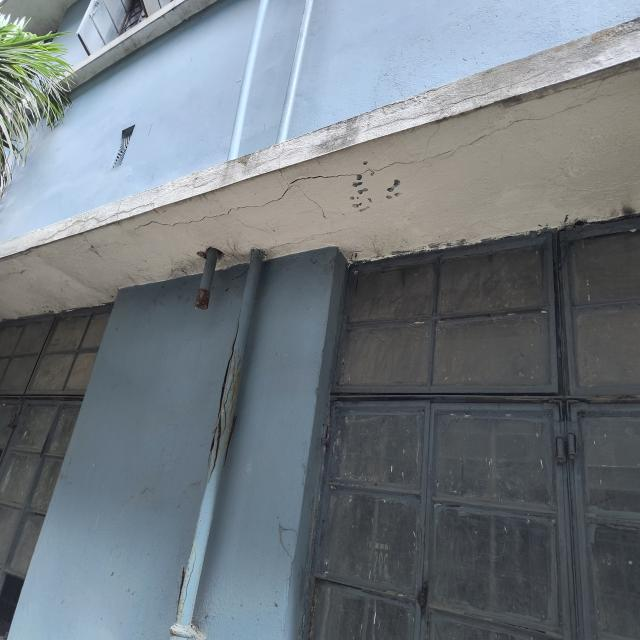crack: (129, 148, 454, 237), (355, 66, 553, 135), (451, 93, 623, 158), (36, 201, 159, 242), (208, 348, 242, 485), (176, 540, 196, 621)
stain_mould: (195, 289, 210, 310)
